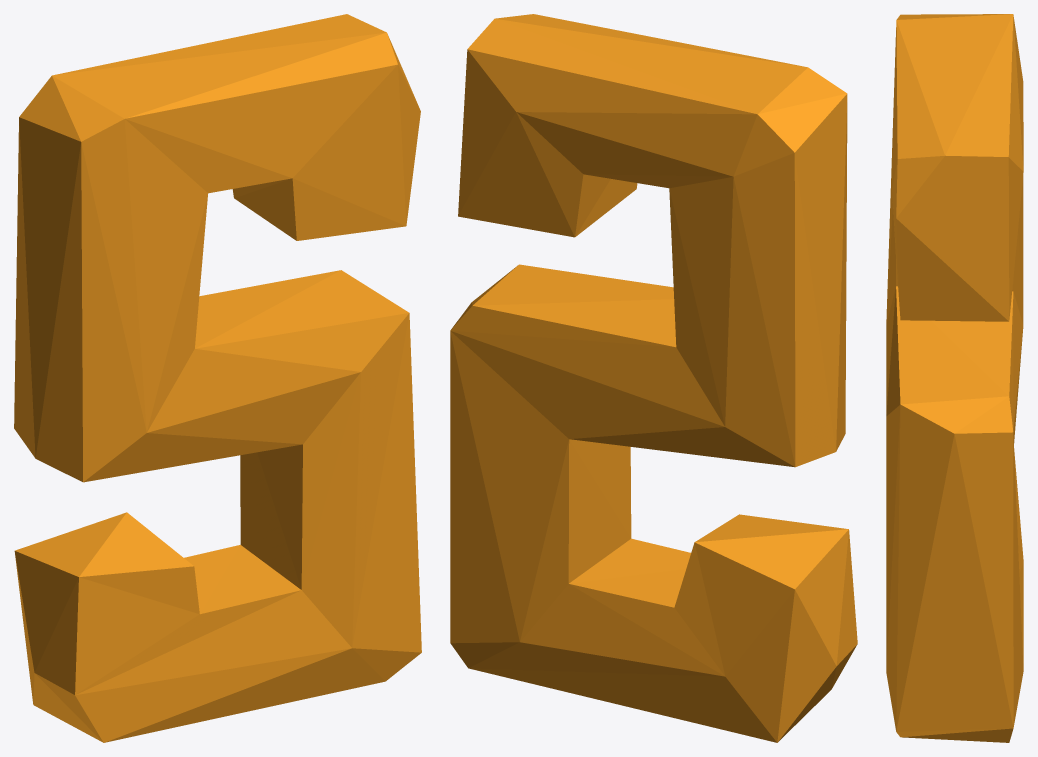
The model's file is SM_Icon_Letter_S_01.fbx.
3 renders of one model, left to right at view 1: azimuth 30°, elevation 25°; view 2: azimuth 150°, elevation 25°; view 3: azimuth 270°, elevation 25°, orthographic. The views are drawn at different scales.
Parts seen in each view (by area): view 1: SM_Icon_Letter_S_01; view 2: SM_Icon_Letter_S_01; view 3: SM_Icon_Letter_S_01.
Boxes of the visible parts, <box> form: SM_Icon_Letter_S_01: <box>14,14,421,742</box>; SM_Icon_Letter_S_01: <box>450,14,857,742</box>; SM_Icon_Letter_S_01: <box>886,14,1023,742</box>.
Bounding box in the file's own units: 33.04 × 55.44 × 11.36.
